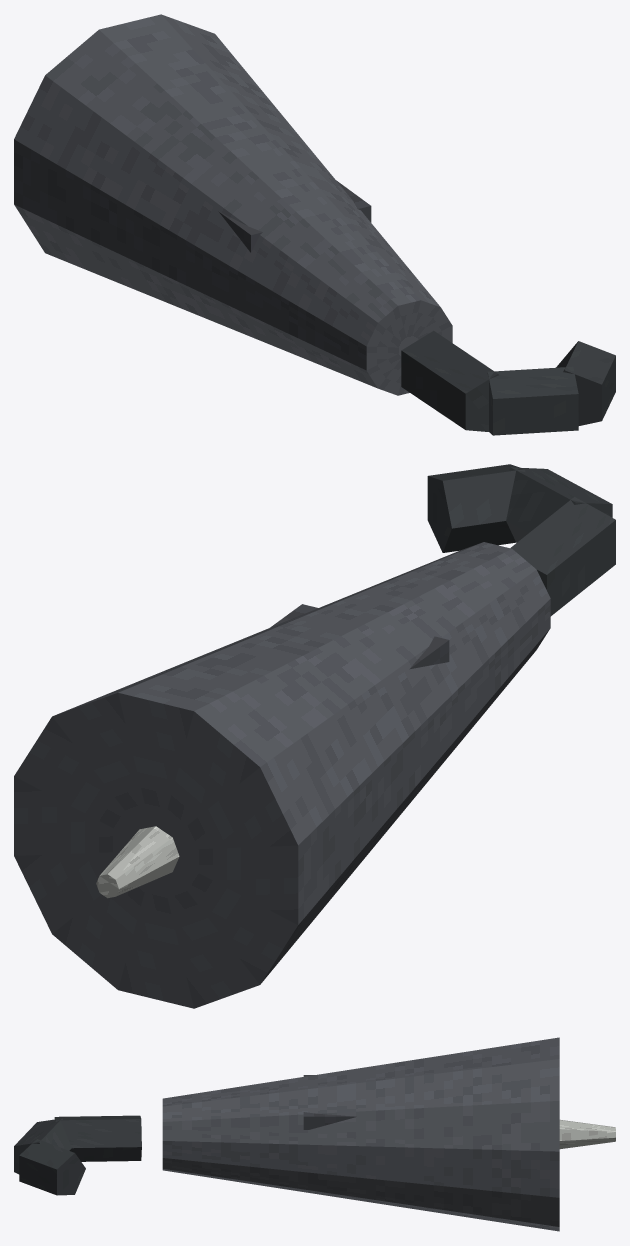
Rendered from teleumbrella.glb.
3 views of the same model, one above another, from view 1: azimuth 30°, elevation 25°; view 2: azimuth 150°, elevation 25°; view 3: azimuth 270°, elevation 25° (orthographic). The views are drawn at different scales.
Visible parts, largest first — view 1: block_folded canopy, block_hook handle 0, block_hook handle 1, block_hook handle 2, block_canopy tie; view 2: block_folded canopy, block_hook handle 0, block_hook handle 2, block_hook handle 1, block_metal tip, block_canopy tie; view 3: block_folded canopy, block_hook handle 0, block_hook handle 2, block_metal tip, block_hook handle 1, block_canopy tie.
Part boxes in pixels (x1=…): block_folded canopy: x1=14, y1=14, x2=452, y2=395; block_hook handle 0: x1=401, y1=330, x2=498, y2=431; block_hook handle 1: x1=487, y1=366, x2=578, y2=435; block_hook handle 2: x1=556, y1=341, x2=615, y2=425; block_canopy tie: x1=218, y1=180, x2=371, y2=252; block_folded canopy: x1=14, y1=542, x2=550, y2=1008; block_hook handle 0: x1=510, y1=497, x2=615, y2=616; block_hook handle 2: x1=427, y1=464, x2=525, y2=552; block_hook handle 1: x1=506, y1=467, x2=612, y2=542; block_metal tip: x1=96, y1=826, x2=179, y2=898; block_canopy tie: x1=270, y1=604, x2=449, y2=669; block_folded canopy: x1=162, y1=1037, x2=559, y2=1231; block_hook handle 0: x1=54, y1=1115, x2=141, y2=1161; block_hook handle 2: x1=19, y1=1139, x2=85, y2=1195; block_metal tip: x1=559, y1=1119, x2=615, y2=1149; block_hook handle 1: x1=14, y1=1118, x2=71, y2=1174; block_canopy tie: x1=303, y1=1075, x2=356, y2=1129.
Size of the model in its own units: 0.0845 by 0.0791 by 0.25.
Materials: 1 (1 with a texture image).
